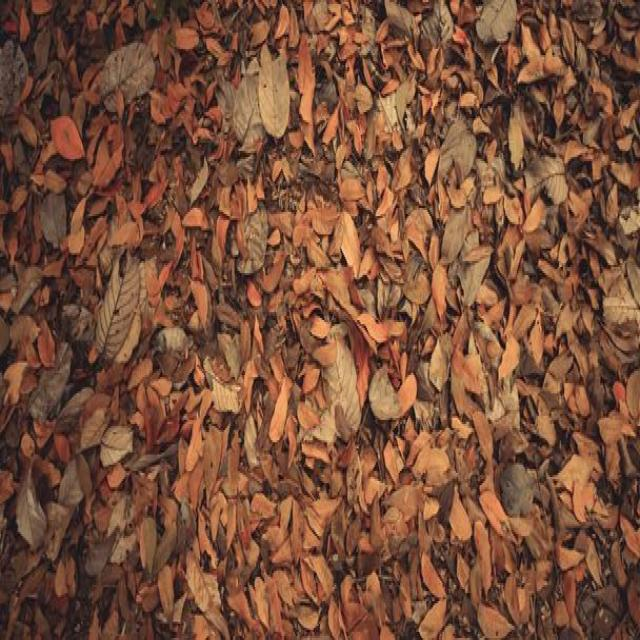organic waste: (280, 190, 413, 446), (436, 223, 578, 457), (430, 0, 590, 194), (74, 164, 190, 388), (455, 463, 600, 640), (157, 456, 280, 634), (4, 5, 157, 130), (224, 32, 308, 155)
